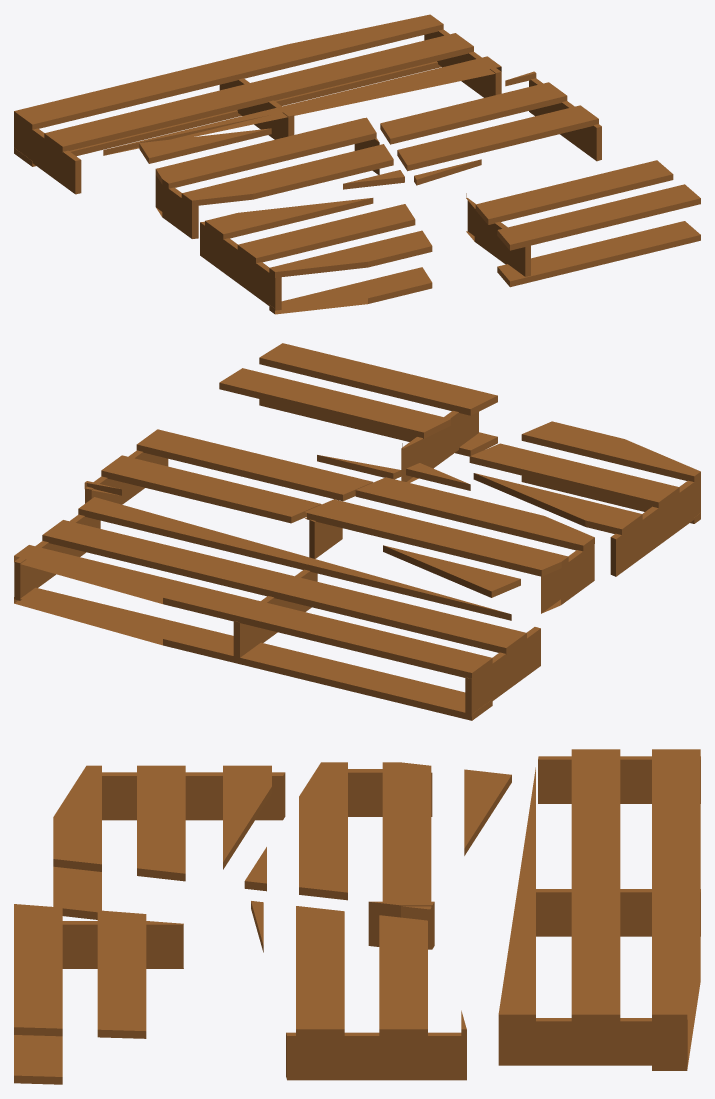
File: Destroyed Pallet.fbx
3 views of the same model, one above another, from view 1: azimuth 30°, elevation 25°; view 2: azimuth 150°, elevation 25°; view 3: azimuth 270°, elevation 25° (orthographic). The views are drawn at different scales.
Visible parts, largest first — view 1: Cube.002, Cube.014, Cube.032, Cube.011, Cube.005; view 2: Cube.002, Cube.011, Cube.014, Cube.032, Cube.005; view 3: Cube.002, Cube.005, Cube.014, Cube.011, Cube.032.
Part boxes in pixels (x1,y1,x2,y2): Cube.002: (14,14,501,194); Cube.014: (200,198,432,314); Cube.032: (466,160,700,287); Cube.011: (139,117,404,238); Cube.005: (380,71,601,185); Cube.002: (14,497,540,720); Cube.011: (305,463,594,613); Cube.014: (469,421,700,576); Cube.032: (219,343,497,482); Cube.005: (84,429,401,523); Cube.002: (498,749,700,1070); Cube.005: (251,901,466,1080); Cube.014: (53,765,285,919); Cube.011: (244,762,511,949); Cube.032: (14,904,183,1084).
Size of the model in its own units: 845 by 94.84 by 876.
